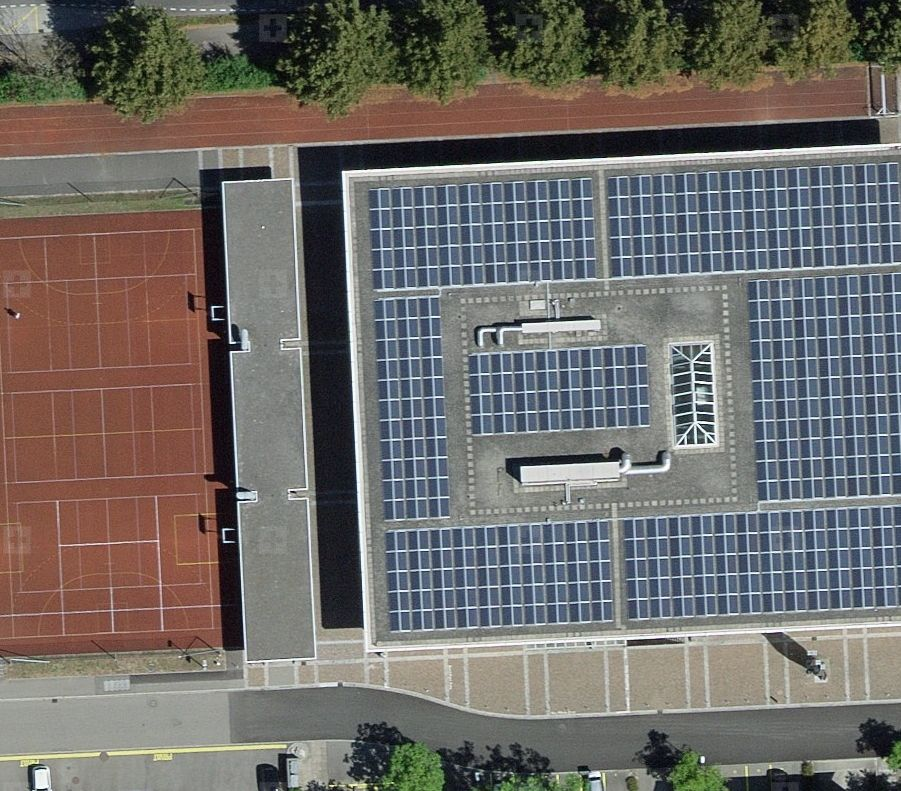solar: (366, 162, 901, 634)
